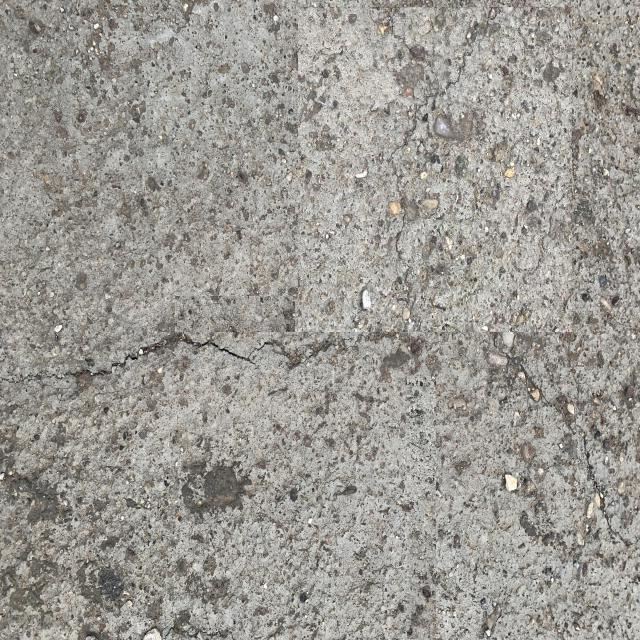diagonal crack: (474, 310, 640, 605), (368, 0, 519, 293)
horizontal crack: (0, 299, 426, 406)
